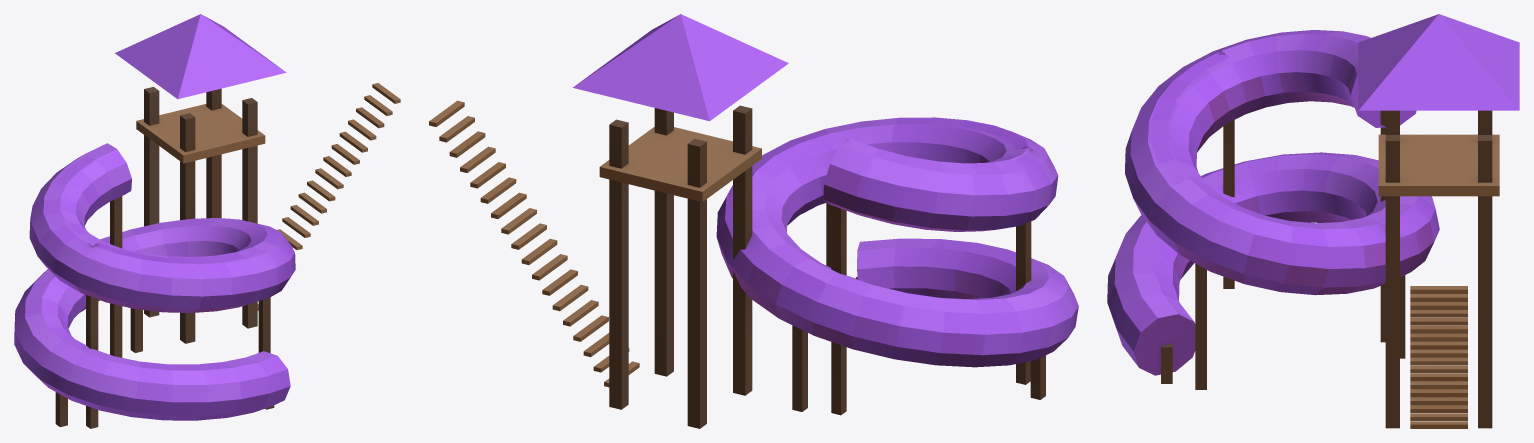
The model's file is area_pool_5_5.fbx.
3 renders of one model, left to right at view 1: azimuth 30°, elevation 25°; view 2: azimuth 150°, elevation 25°; view 3: azimuth 270°, elevation 25°, orthographic. The views are drawn at different scales.
Parts seen in each view (by area): view 1: area_pool_5_5_body; view 2: area_pool_5_5_body; view 3: area_pool_5_5_body.
Part boxes in pixels (x1,y1,x2,y2): area_pool_5_5_body: (14, 14, 400, 428); area_pool_5_5_body: (429, 14, 1078, 428); area_pool_5_5_body: (1107, 14, 1519, 428).
Bounding box in the file's own units: 5454 × 3750 × 3579.
1 material, 1 textured.
